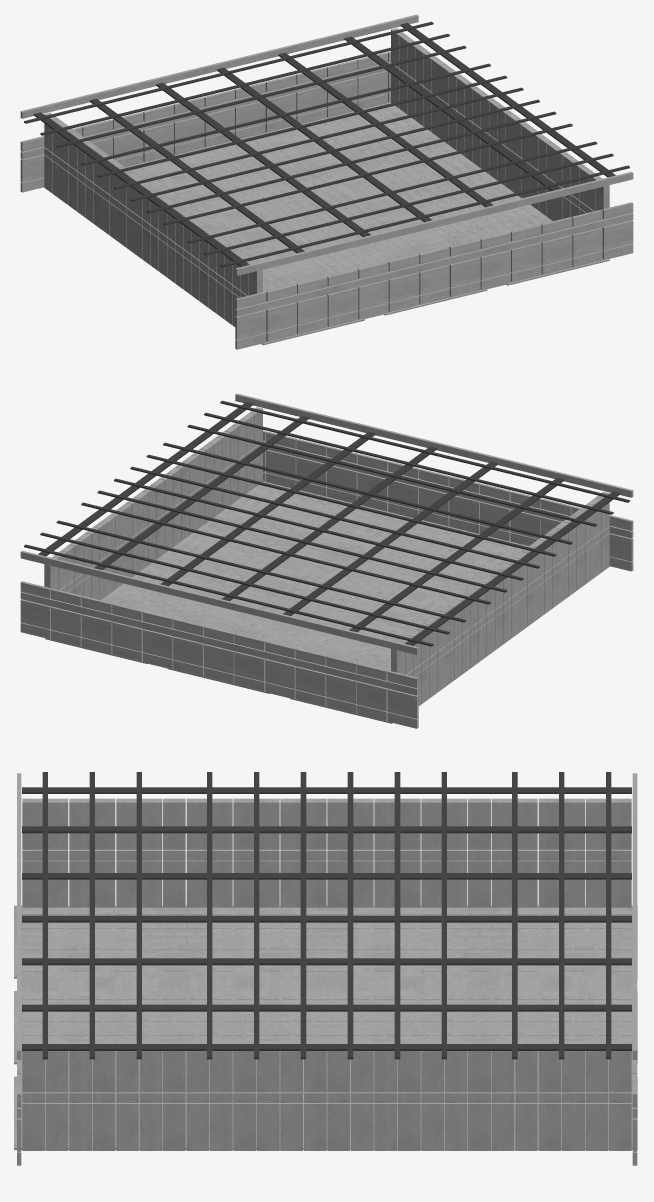
The model's file is retailmekans-opt-v4.glb.
The picture shows the model from 3 angles, top to bottom: view 1: azimuth 30°, elevation 25°; view 2: azimuth 150°, elevation 25°; view 3: azimuth 270°, elevation 25°; orthographic projection. The views are drawn at different scales.
Visible parts, largest first — view 1: Concrete, Spartacus; view 2: Concrete, Spartacus; view 3: Concrete, Spartacus.
Part boxes in pixels (box(x1,y1,x2,y2)): Concrete: box(20, 14, 633, 349); Spartacus: box(24, 21, 629, 267); Concrete: box(20, 393, 633, 728); Spartacus: box(24, 400, 629, 646); Concrete: box(14, 773, 637, 1165); Spartacus: box(22, 772, 631, 1059).
Size of the model in its own units: 191 by 41.53 by 177.
Materials: 3 (1 with a texture image).
